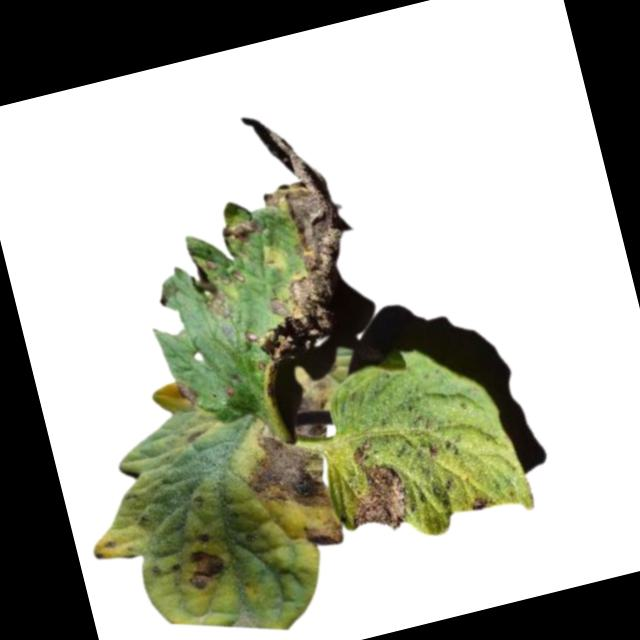Early_blight: (199, 100, 367, 365), (238, 424, 330, 515), (334, 433, 414, 537), (185, 252, 244, 324), (283, 380, 337, 443), (182, 545, 231, 595), (297, 514, 347, 554), (169, 376, 199, 411), (464, 491, 494, 514), (192, 528, 211, 546)
